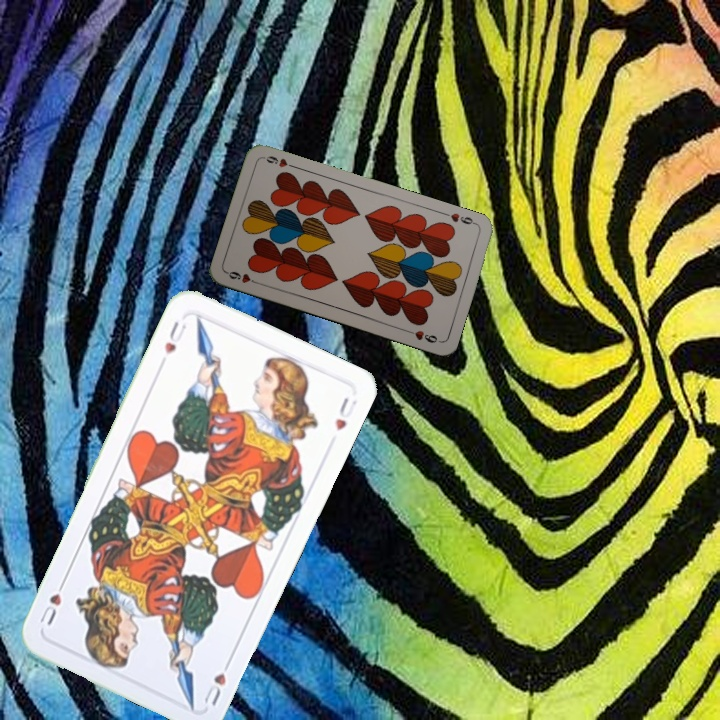H9: (223, 267, 263, 287), (440, 209, 480, 228)
HU: (200, 654, 235, 709), (160, 317, 189, 357)
